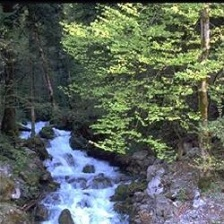neutral: (1, 4, 224, 223)
